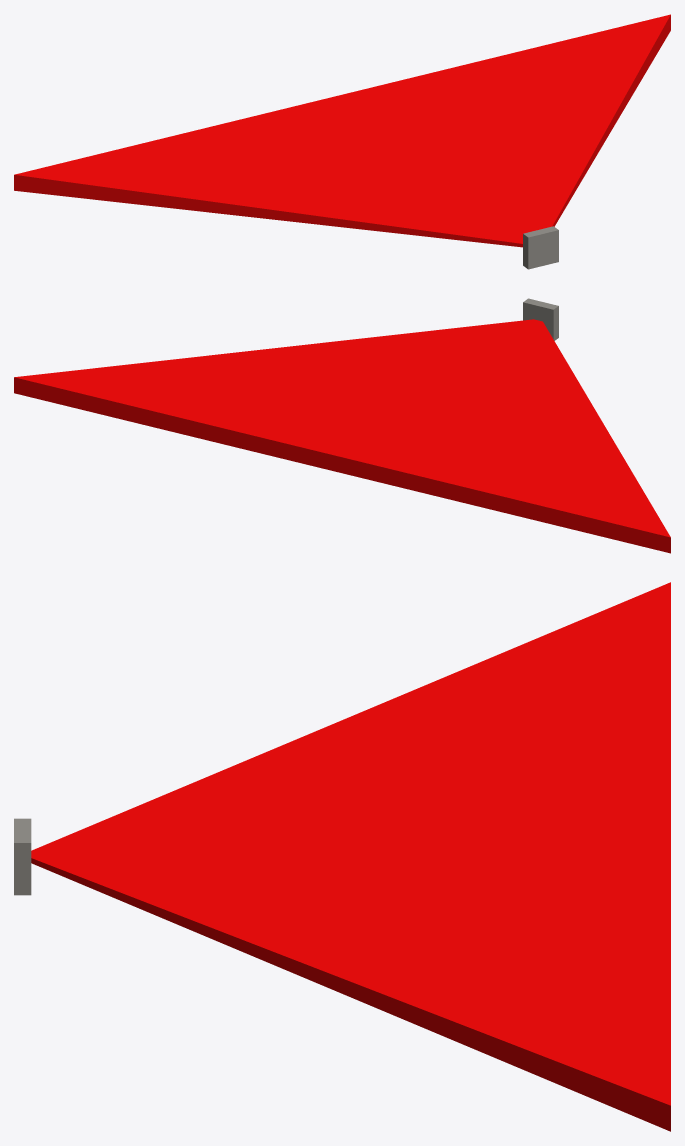
Rendered from scanner.glb.
3 views of the same model, one above another, from view 1: azimuth 30°, elevation 25°; view 2: azimuth 150°, elevation 25°; view 3: azimuth 270°, elevation 25° (orthographic). The views are drawn at different scales.
Visible parts, largest first — view 1: Part 2, Part 1; view 2: Part 2, Part 1; view 3: Part 2, Part 1.
Part boxes in pixels (bbox=[...]): Part 2: bbox=[14, 14, 670, 247]; Part 1: bbox=[523, 226, 558, 269]; Part 2: bbox=[14, 319, 670, 553]; Part 1: bbox=[523, 298, 558, 340]; Part 2: bbox=[31, 582, 670, 1131]; Part 1: bbox=[14, 818, 31, 895].
Bounding box in the file's own units: 2.15 × 0.1 × 1.14.
